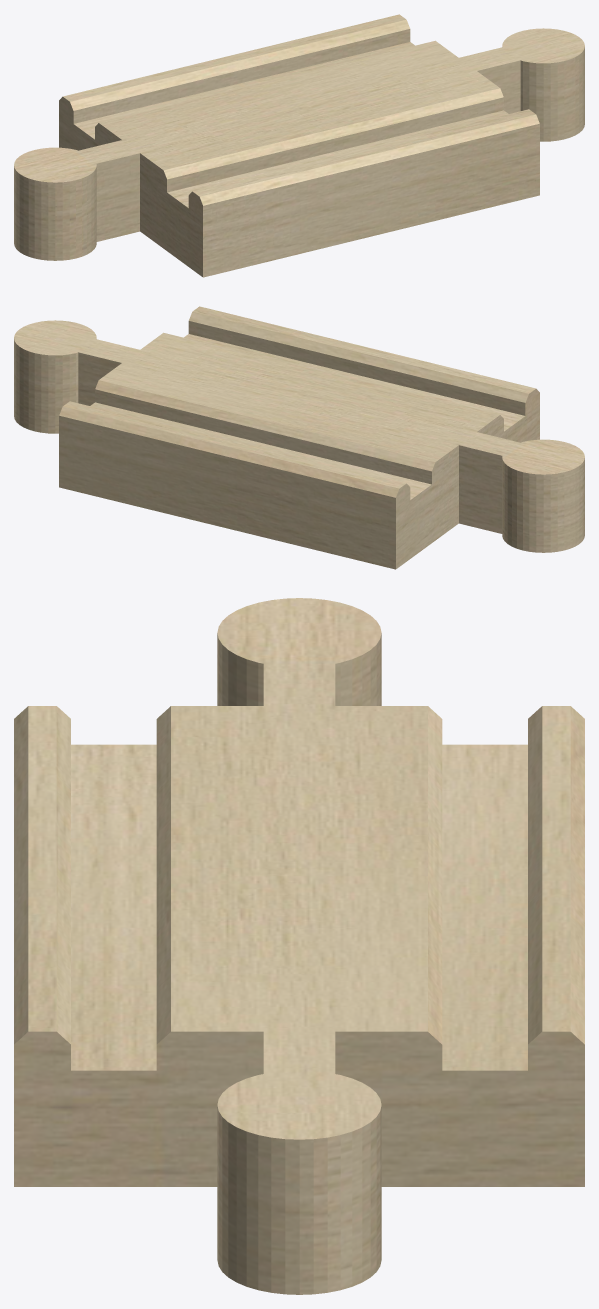
The picture shows the model from 3 angles, top to bottom: view 1: azimuth 30°, elevation 25°; view 2: azimuth 150°, elevation 25°; view 3: azimuth 270°, elevation 25°; orthographic projection. The views are drawn at different scales.
Parts seen in each view (by area): view 1: SketchUp; view 2: SketchUp; view 3: SketchUp.
Part boxes in pixels (<box>): SketchUp: <box>14,14,584,277</box>; SketchUp: <box>14,306,584,569</box>; SketchUp: <box>14,598,584,1294</box>.
Size of the model in its own units: 3.53 by 1.57 by 0.4724.
